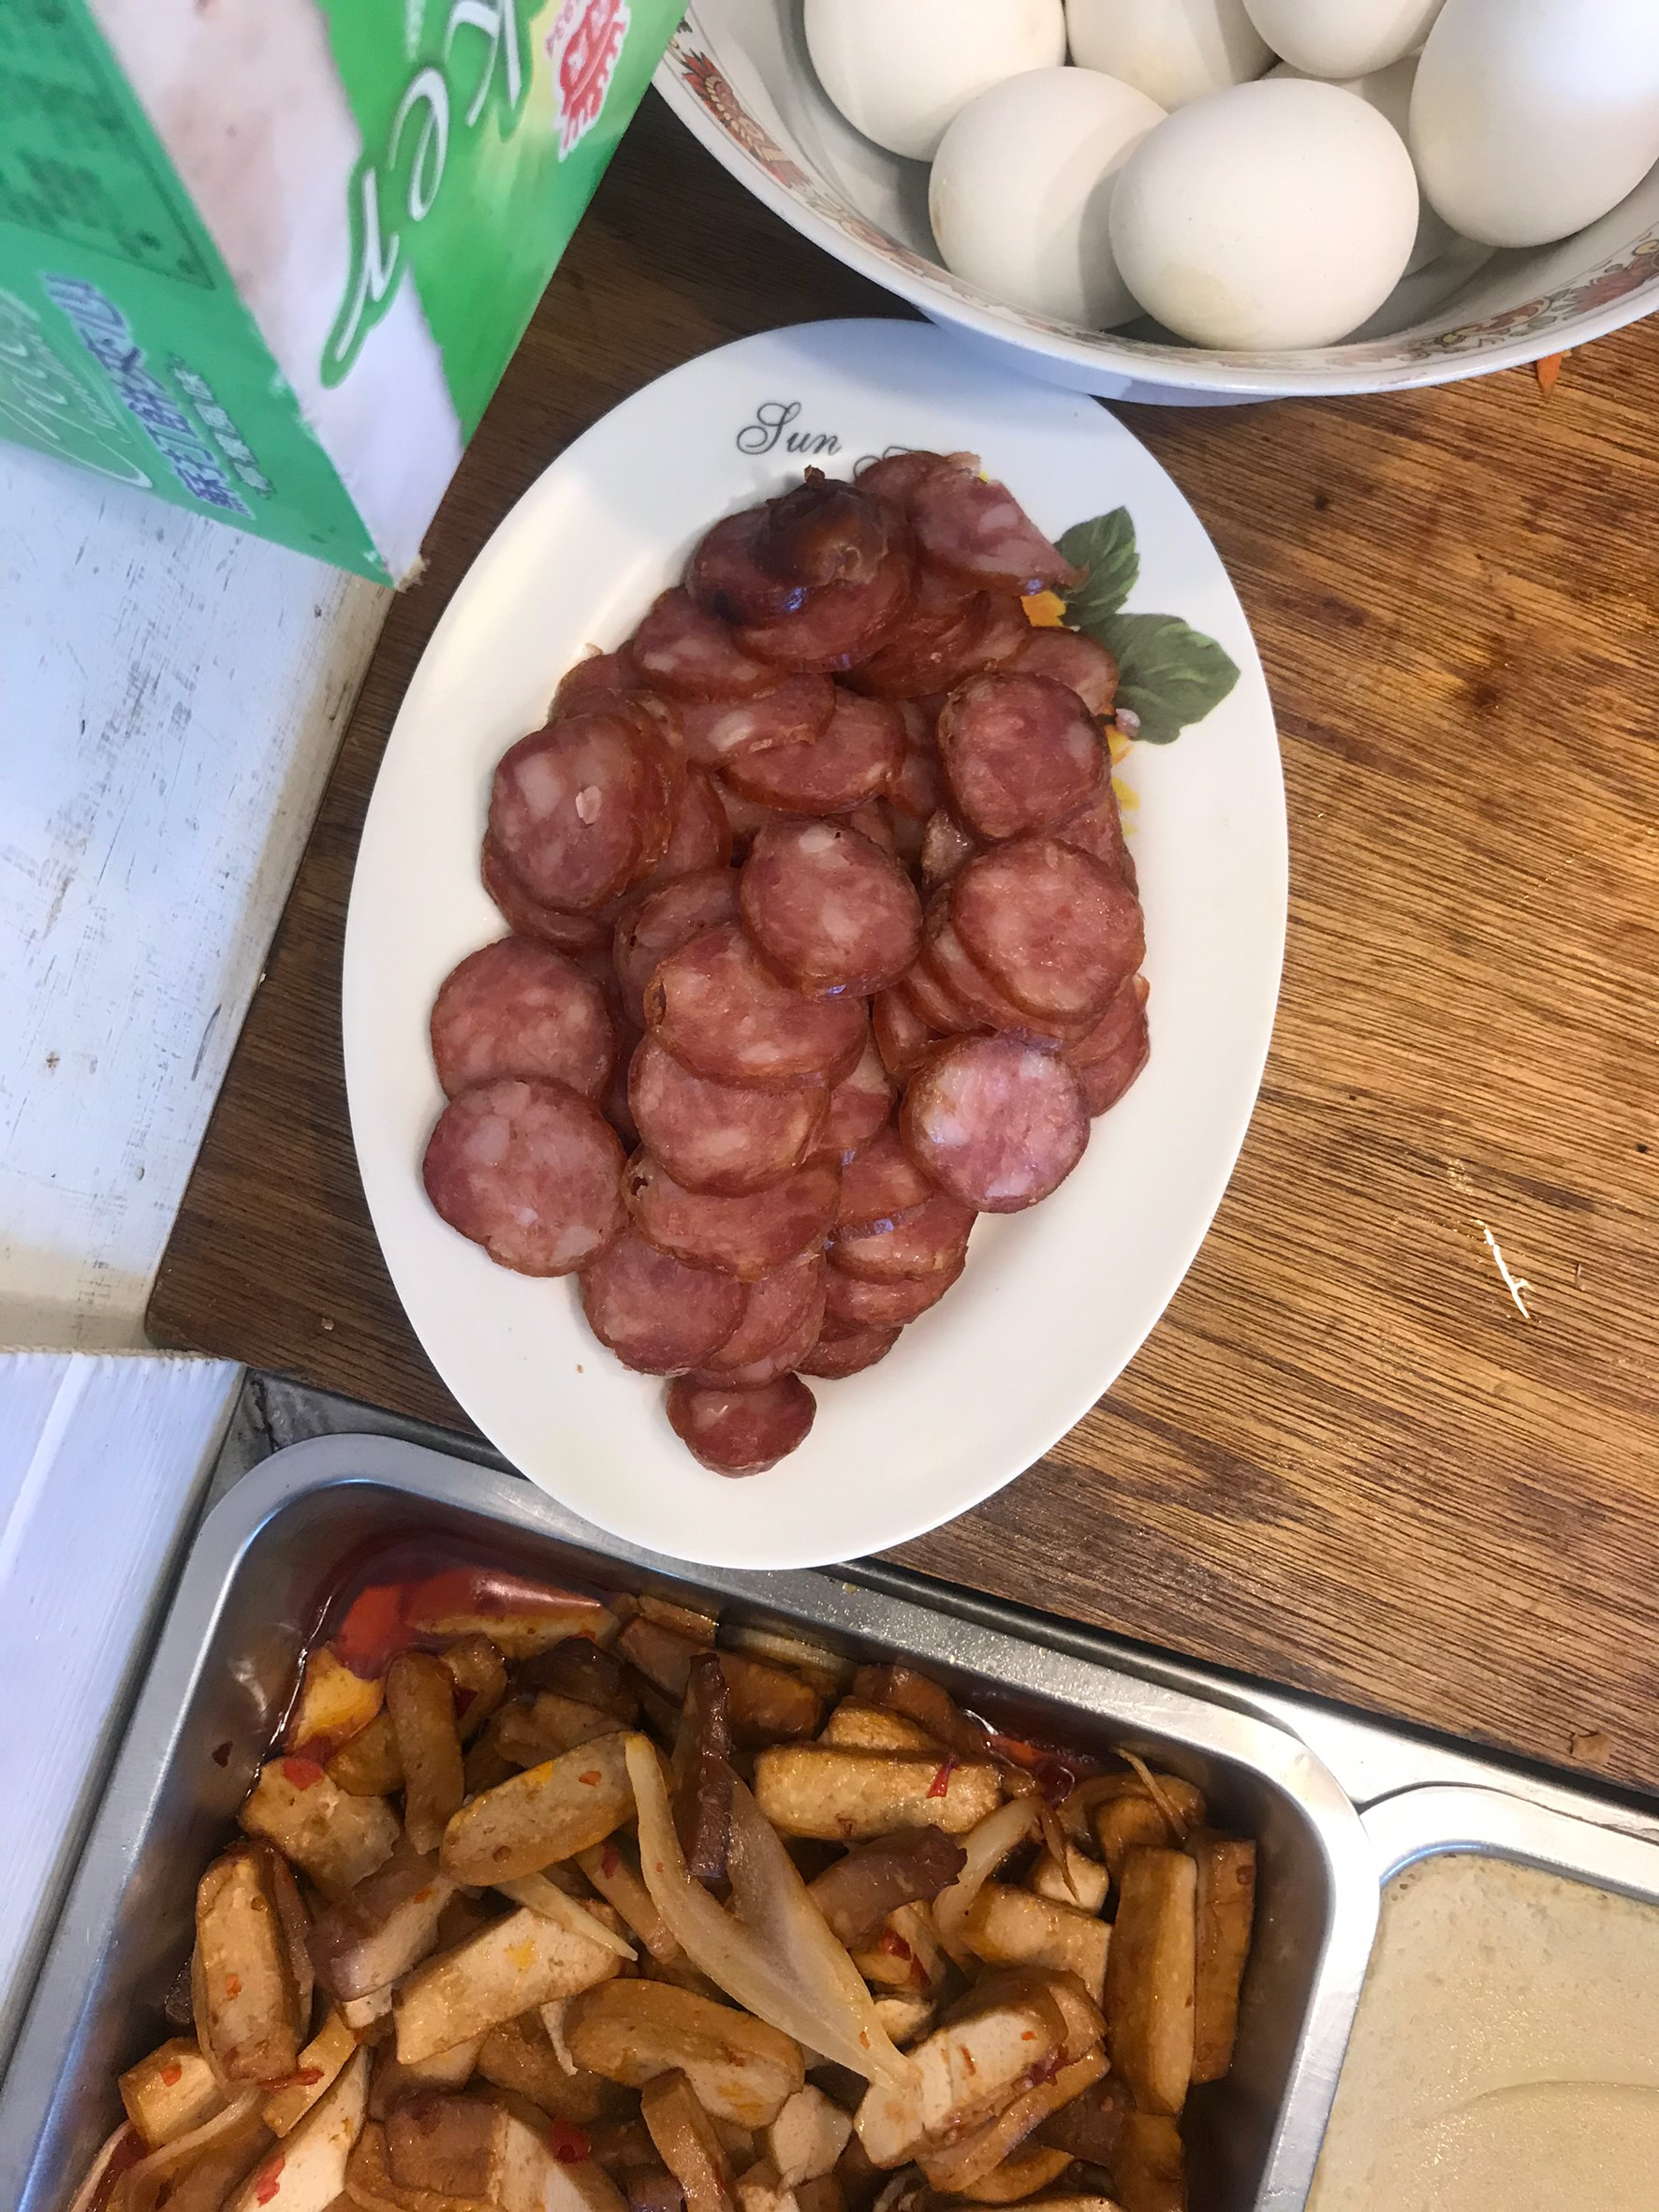chinese_sausage: (577, 582, 985, 1274)
